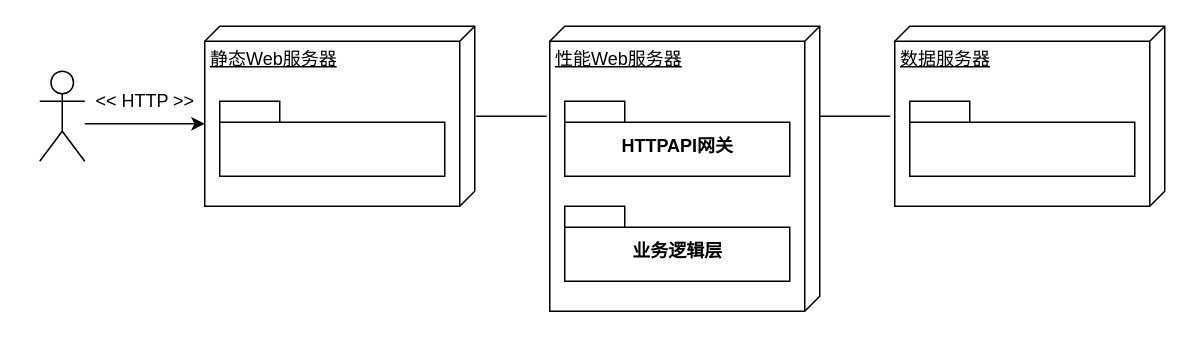
The diagram is 1191 pixels wide and 338 high, and some of its shapes have lost their labels. Each missing label, with the box of its shape:
前端用户界面: (218, 100, 445, 176)
数据接口层: (908, 100, 1135, 176)
用户代理 浏览器: (38, 70, 85, 161)
